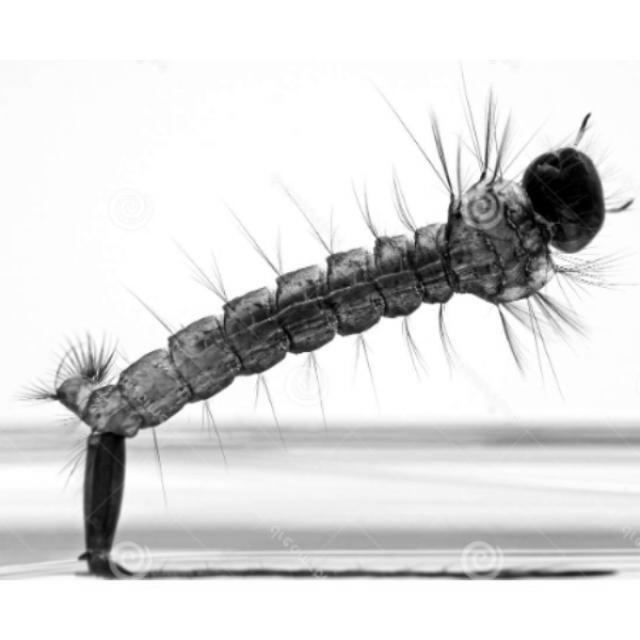larvas: (61, 148, 602, 578)
